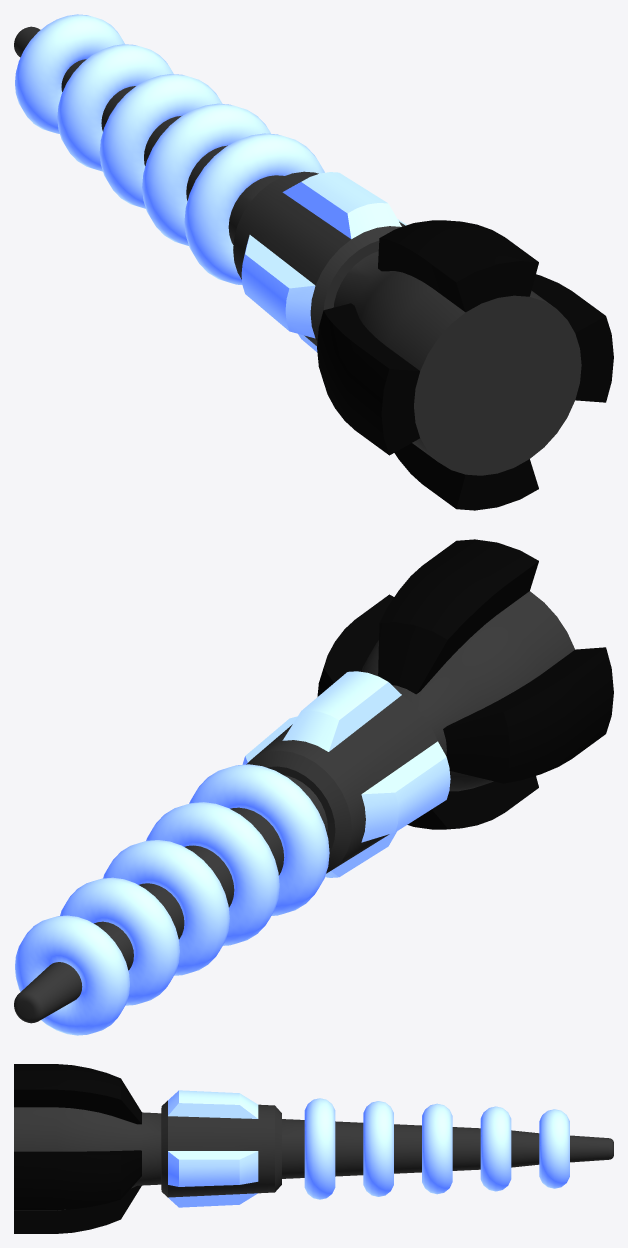
File: BeaconTower0.fbx
The picture shows the model from 3 angles, top to bottom: view 1: azimuth 30°, elevation 25°; view 2: azimuth 150°, elevation 25°; view 3: azimuth 270°, elevation 25°; orthographic projection. The views are drawn at different scales.
Parts seen in each view (by area): view 1: Cylinder, Cylinder_Curve.001, Cylinder.004, Cylinder.003, Cylinder.005; view 2: Cylinder_Curve.001, Cylinder, Cylinder.004, Cylinder.003, Cylinder.005; view 3: Cylinder, Cylinder_Curve.001, Cylinder.004, Cylinder.003, Cylinder.005.
Part boxes in pixels (x1,y1,x2,y2): Cylinder: (14, 26, 581, 475); Cylinder_Curve.001: (15, 14, 324, 284); Cylinder.004: (378, 220, 538, 510); Cylinder.003: (317, 274, 613, 455); Cylinder.005: (241, 172, 406, 351); Cylinder_Curve.001: (15, 764, 329, 1035); Cylinder: (14, 591, 574, 1023); Cylinder.004: (378, 539, 538, 829); Cylinder.003: (317, 594, 613, 783); Cylinder.005: (242, 671, 450, 877); Cylinder: (14, 1100, 613, 1210); Cylinder_Curve.001: (304, 1098, 569, 1199); Cylinder.004: (14, 1064, 141, 1233); Cylinder.003: (14, 1150, 141, 1210); Cylinder.005: (168, 1090, 258, 1207).
Size of the model in its own units: 277 by 277 by 975.
